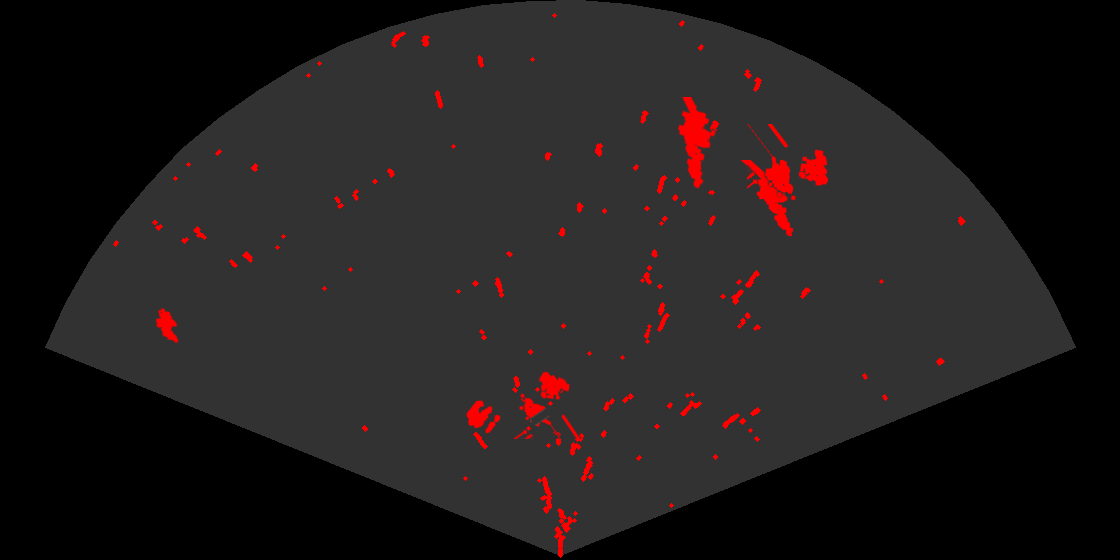AUV: (154, 306, 180, 345)
ball: (465, 399, 502, 435)
cage: (747, 124, 830, 202), (512, 370, 582, 439)
frogman: (739, 160, 795, 238), (676, 97, 718, 190)
